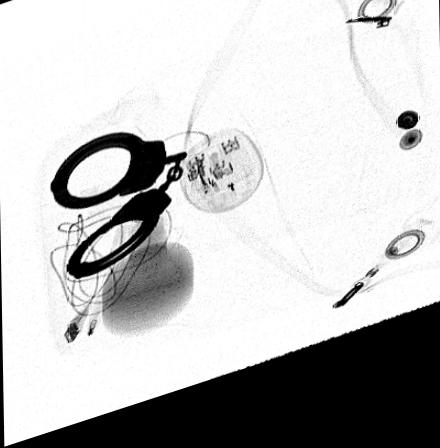HandCuffs: (46, 136, 189, 287)
